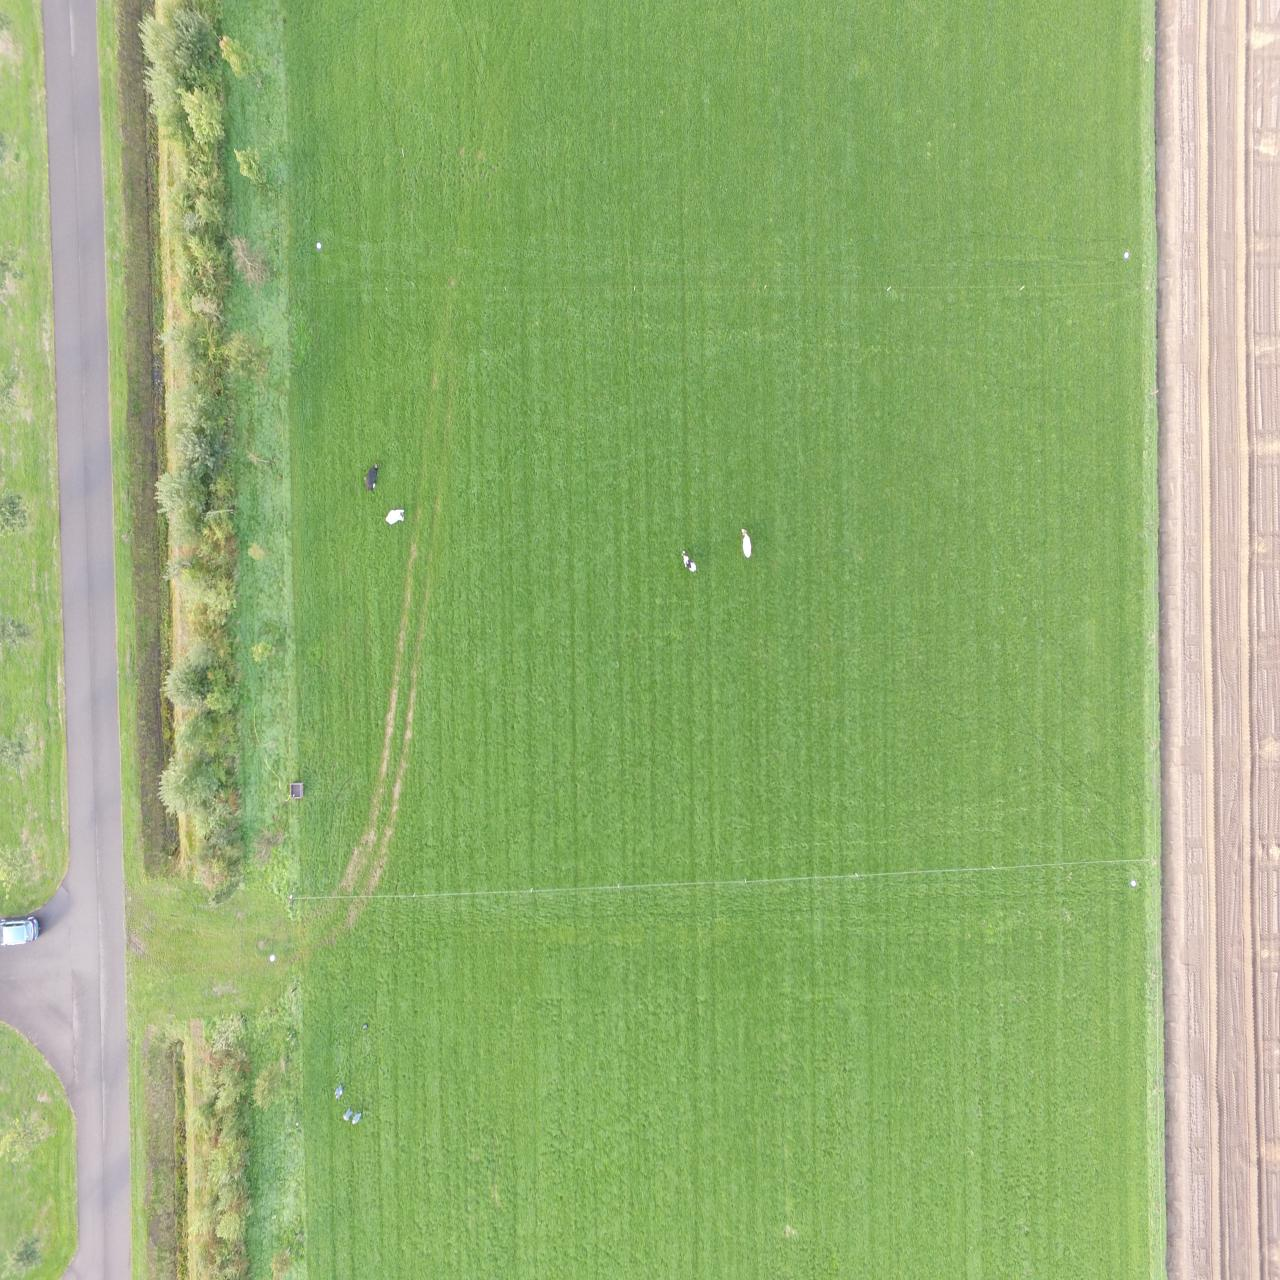cow: (363, 462, 382, 491), (679, 549, 697, 573), (740, 527, 753, 558), (384, 508, 404, 523)
